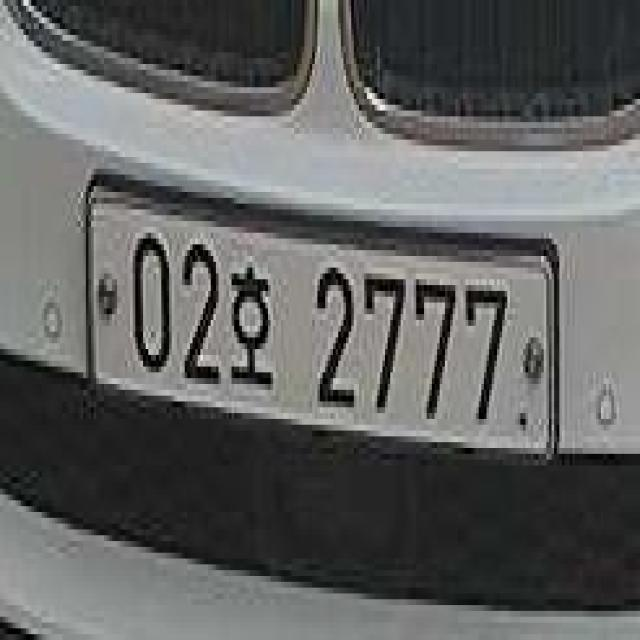illegal_plate: (87, 168, 560, 486)
